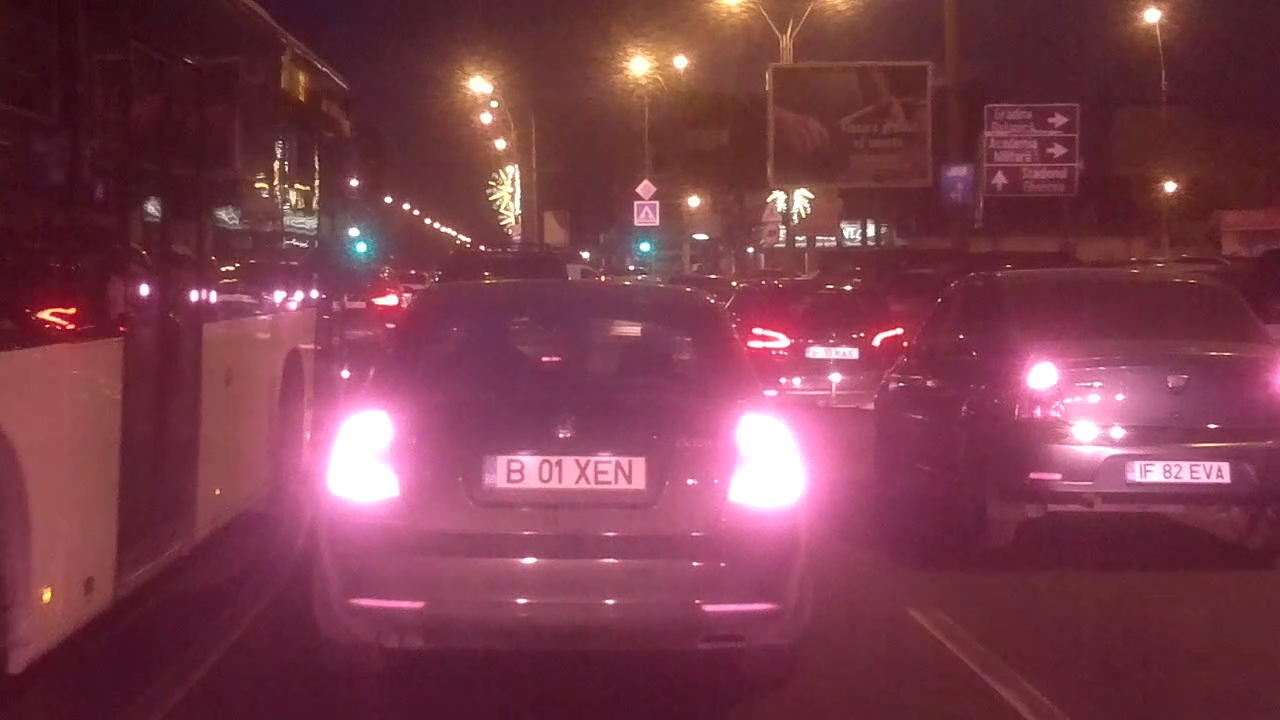license-plate: (476, 450, 651, 493), (1120, 456, 1237, 487), (803, 345, 861, 361)
